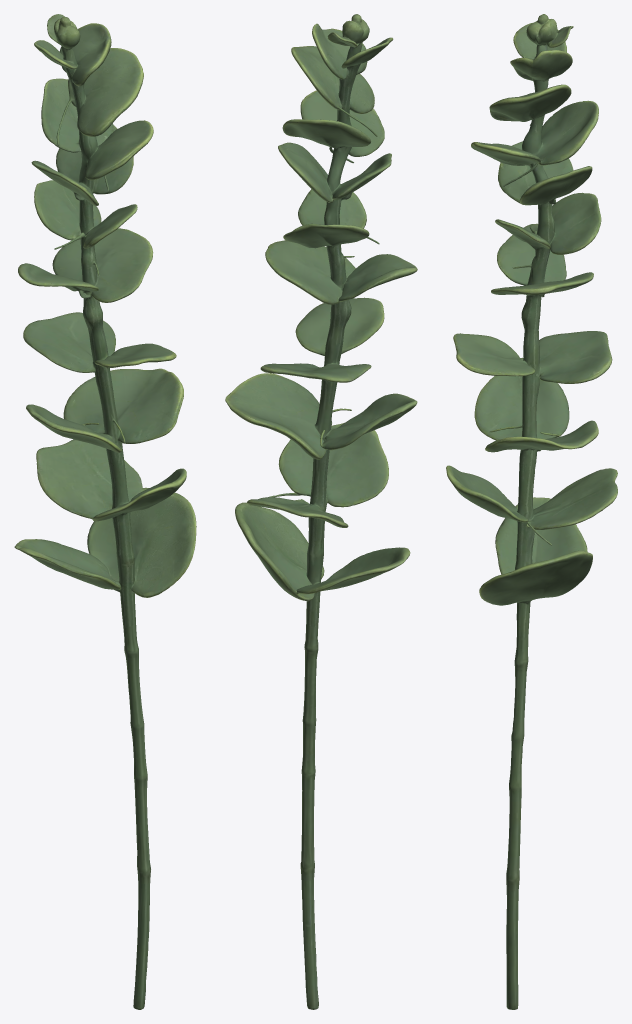
The model's file is eucalyptus.glb.
3 views of the same model, side by side, from view 1: azimuth 30°, elevation 25°; view 2: azimuth 150°, elevation 25°; view 3: azimuth 270°, elevation 25° (orthographic). The views are drawn at different scales.
Bounding box in the file's own units: 0.3402 × 1.9 × 0.3067.
Materials: 1 (1 with a texture image).
